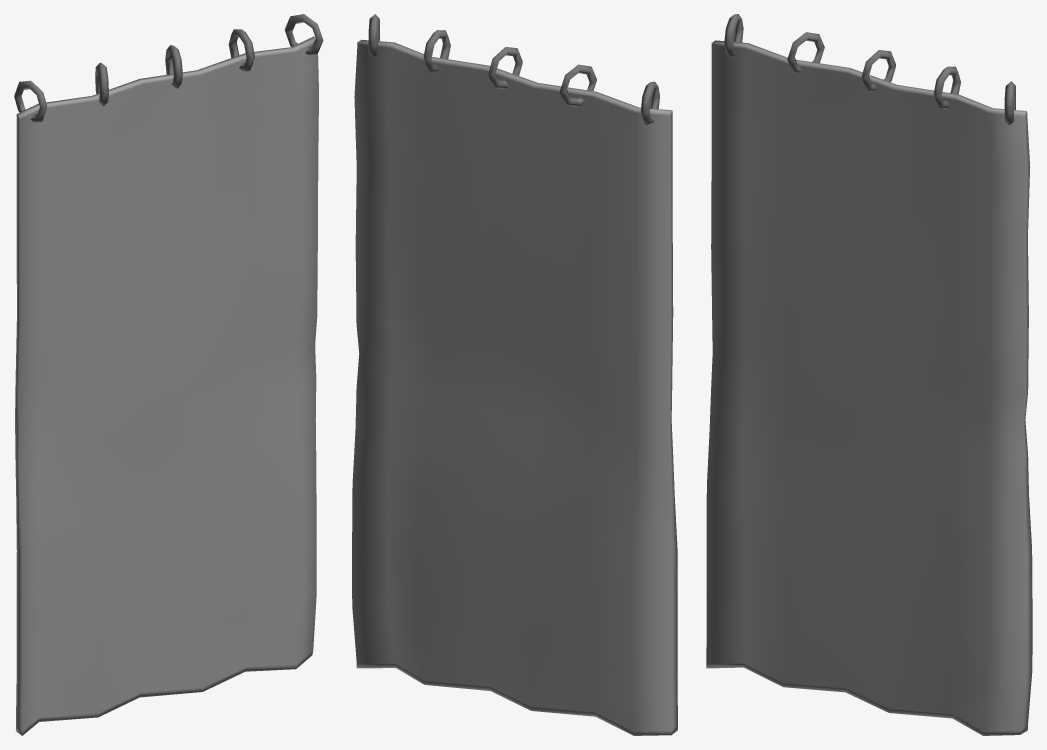
The model's file is curtain_022.fbx.
3 views of the same model, side by side, from view 1: azimuth 30°, elevation 25°; view 2: azimuth 150°, elevation 25°; view 3: azimuth 330°, elevation 25° (orthographic).
Visible parts, largest first — view 1: curtain_022; view 2: curtain_022; view 3: curtain_022.
Boxes of the visible parts, x1=… form: curtain_022: x1=14, y1=14, x2=323, y2=735; curtain_022: x1=352, y1=14, x2=677, y2=735; curtain_022: x1=706, y1=14, x2=1032, y2=735.
Size of the model in its own units: 174 by 22.83 by 348.
